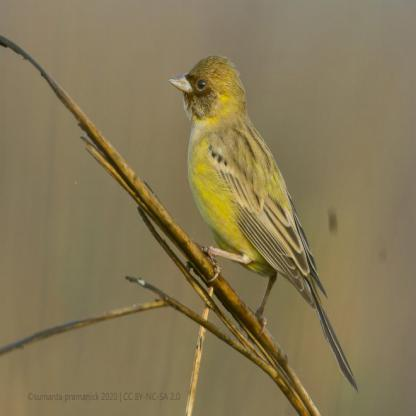Burung: (168, 54, 356, 389)
